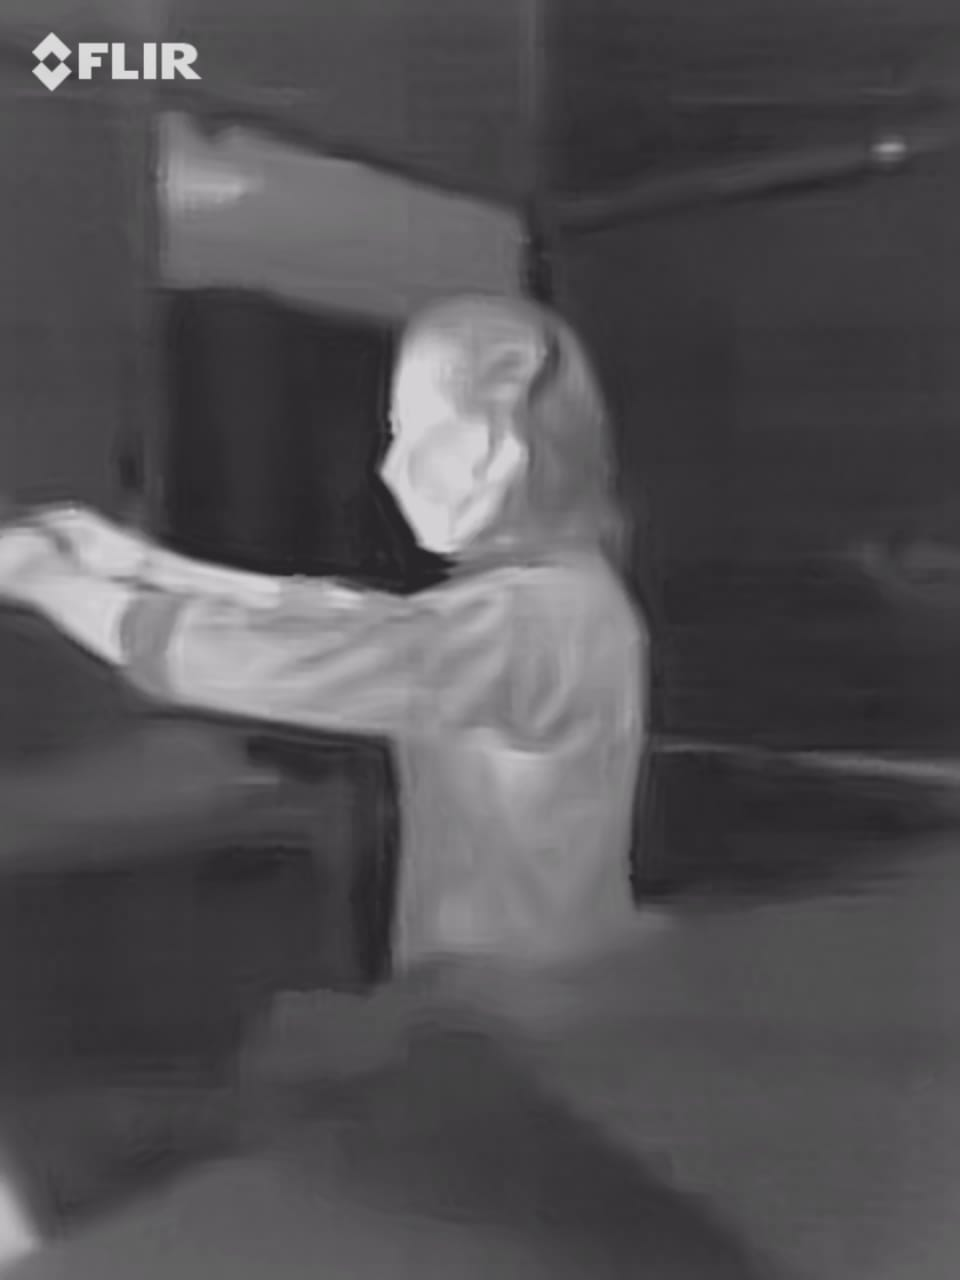head: (375, 292, 646, 579)
